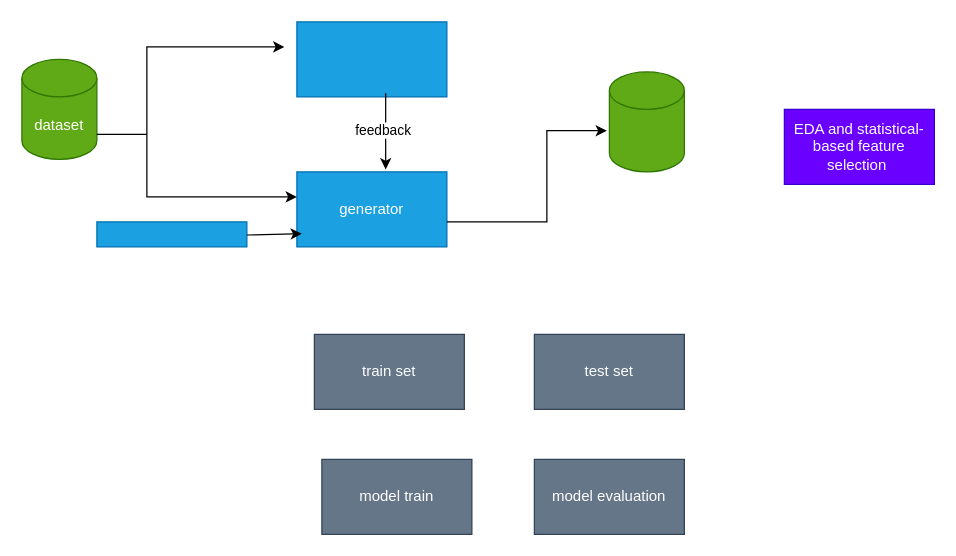
Image size: 956x556. Some labels were removed from this diagram. Each missing label, with the centre of its shape:
"discriminator" goes at (x=371, y=59).
"imputed dataset" goes at (x=646, y=121).
"random vector" goes at (x=171, y=234).
